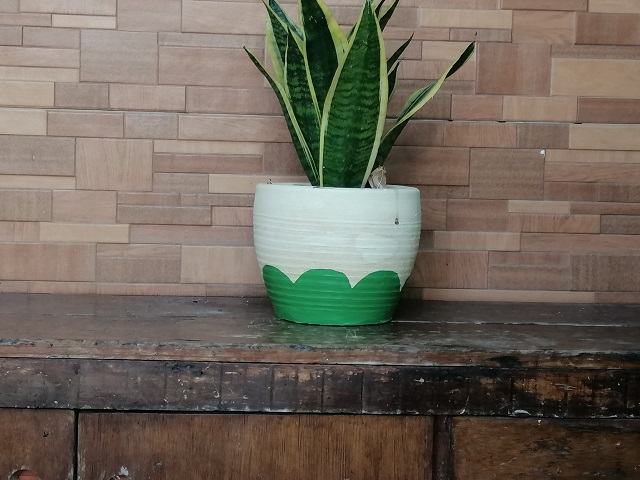plant: (244, 1, 417, 326)
wall: (6, 4, 231, 294), (477, 15, 640, 300)
